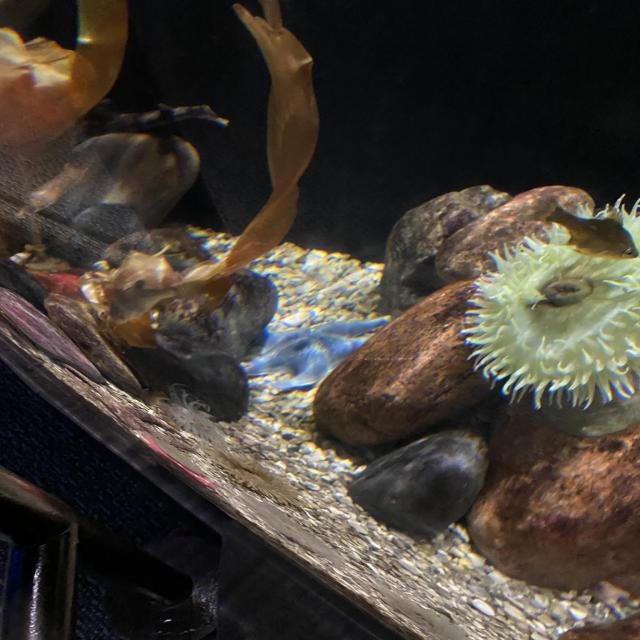fish: (513, 192, 639, 260), (108, 280, 184, 326)
starfish: (242, 314, 394, 390)
